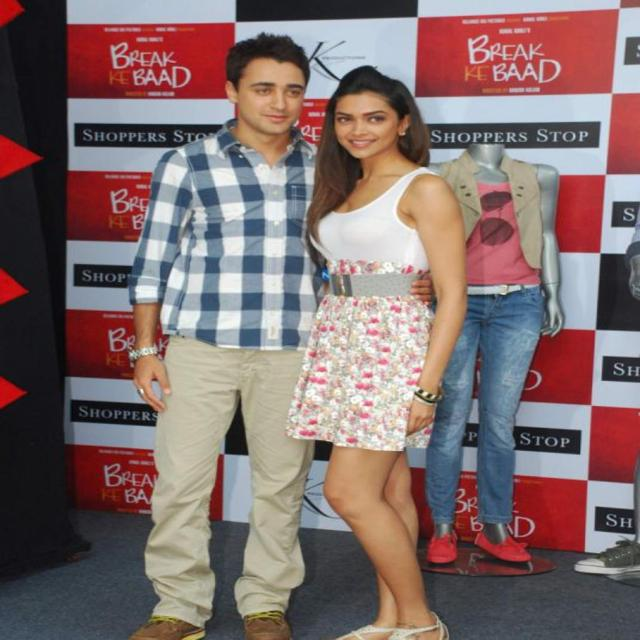Face: (331, 85, 422, 171), (214, 56, 309, 137)
